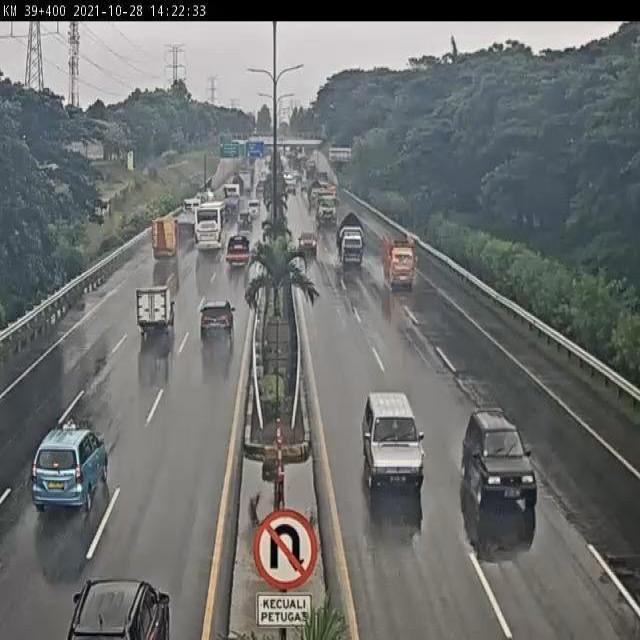big bus: (192, 203, 230, 253)
car: (460, 406, 540, 514), (33, 419, 111, 512), (361, 387, 426, 496), (134, 283, 176, 336), (198, 294, 235, 342), (298, 227, 319, 256), (233, 208, 255, 233)
truck-l-: (312, 185, 339, 227)
truck-s-: (382, 232, 416, 292), (336, 208, 366, 269), (146, 214, 180, 262), (225, 232, 251, 267)
